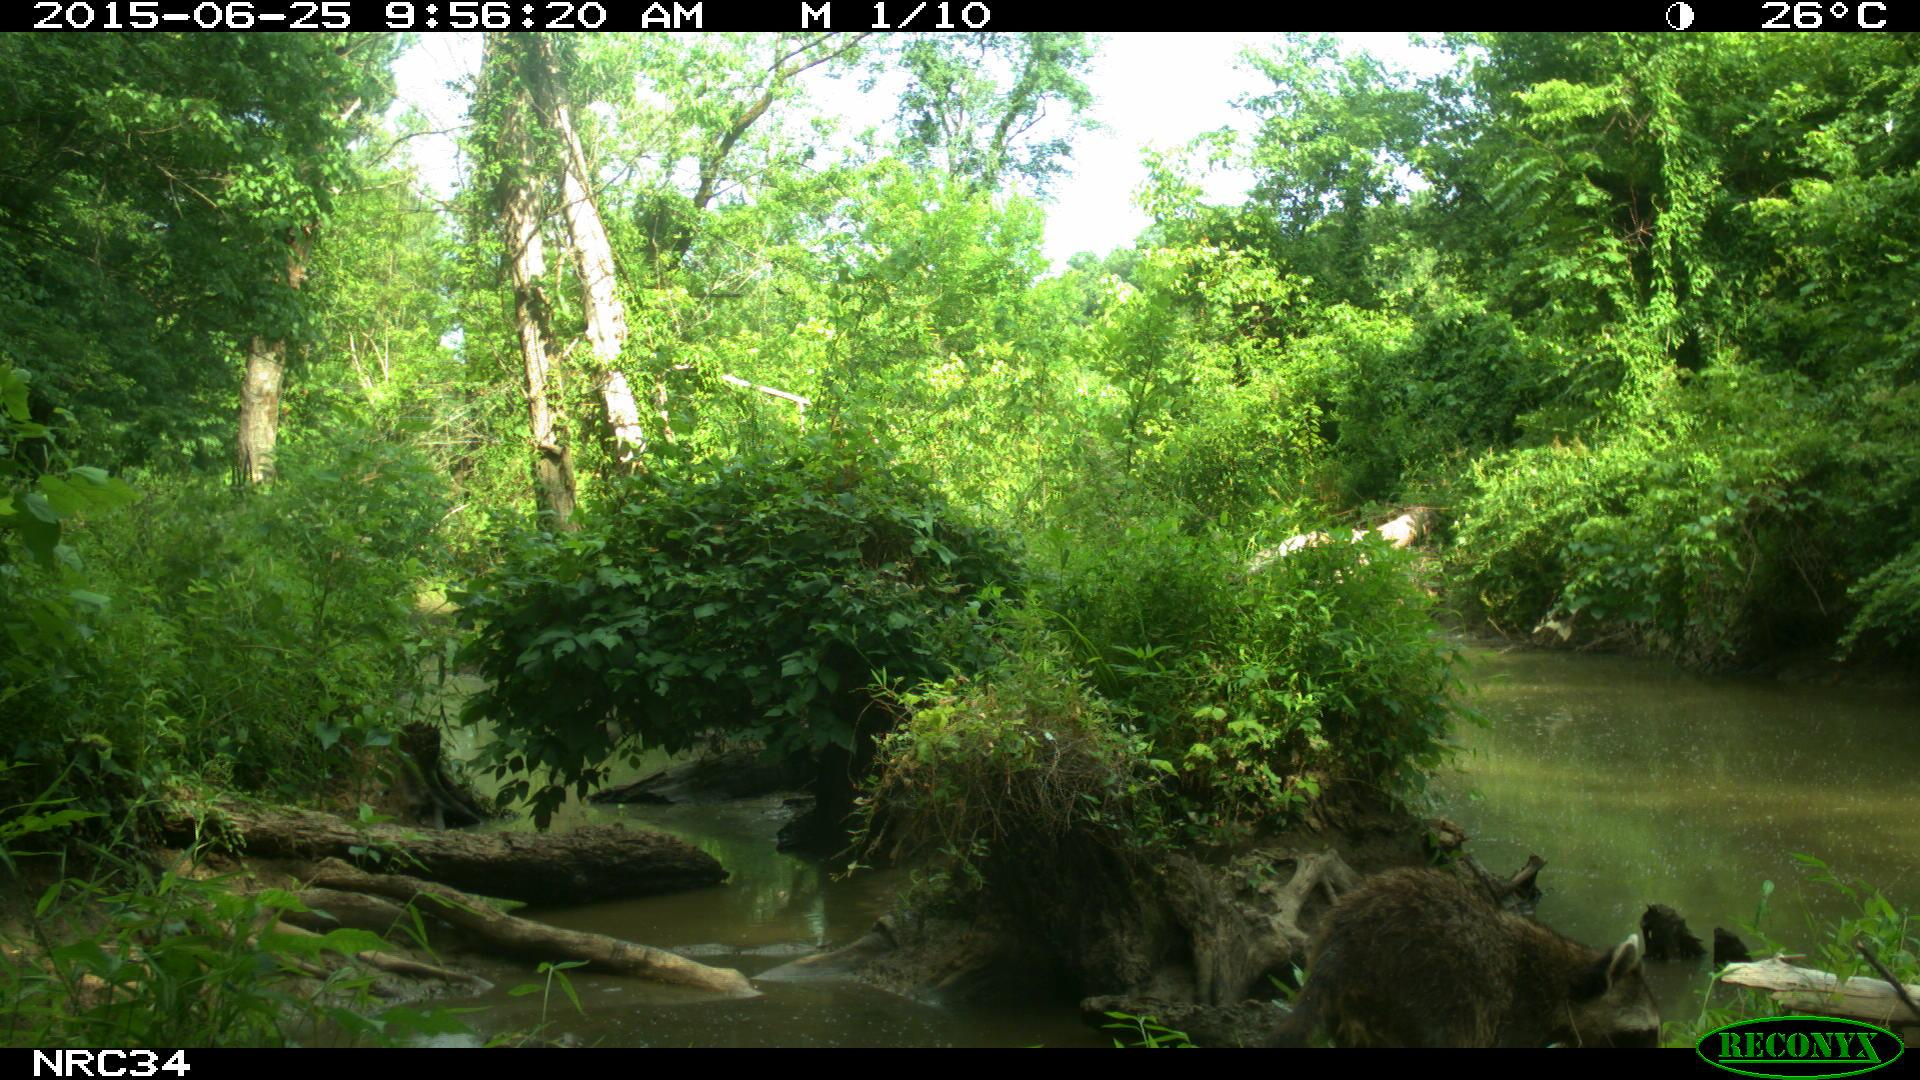Animal: (1271, 866, 1662, 1048)
